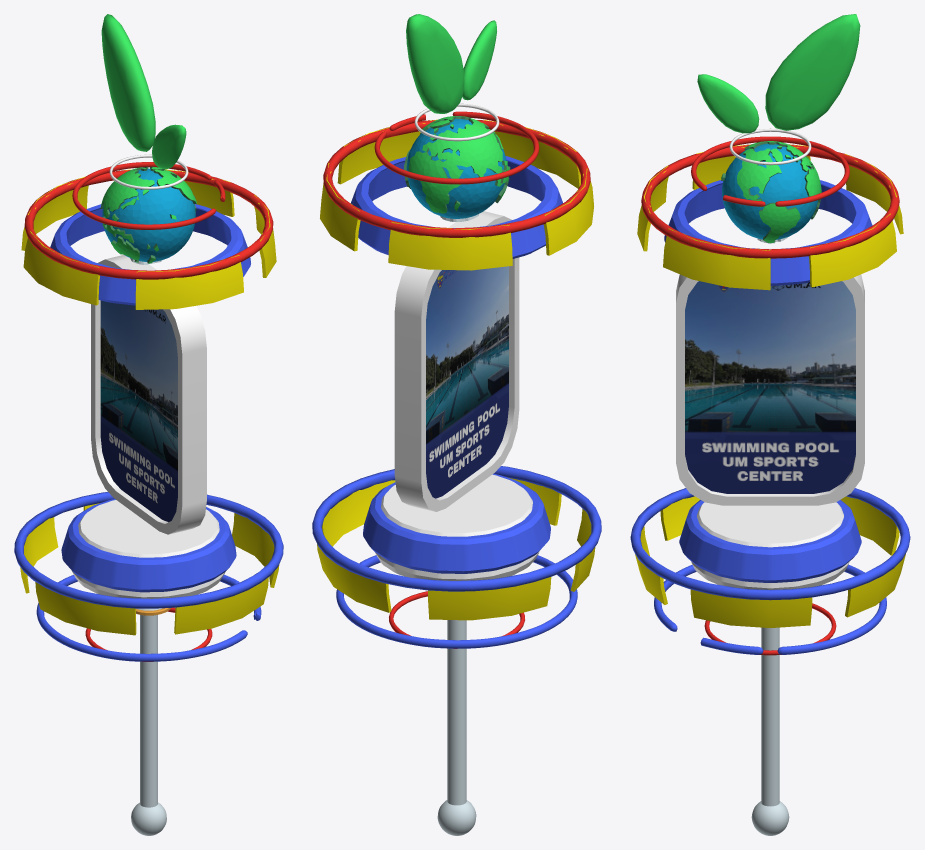
File: pool.glb
3 views of the same model, side by side, from view 1: azimuth 30°, elevation 25°; view 2: azimuth 150°, elevation 25°; view 3: azimuth 270°, elevation 25° (orthographic). The views are drawn at different scales.
Parts seen in each view (by area): view 1: pCube3, polySurface2, pasted__pSphere8, pasted__pSphere6, pasted__pCylinder9, Sphere, pasted__pCylinder10, pCube5, pasted__polySurface27, pasted__polySurface28, pasted__pCone1, pasted__polySurface30 (+3 smaller); view 2: pCube3, polySurface2, pasted__pSphere8, pasted__pSphere6, pasted__pCylinder9, Sphere, pasted__pCylinder10, pasted__polySurface27, pCube5, pasted__polySurface28, pasted__polySurface30, pasted__pCone1 (+4 smaller); view 3: pCube3, pasted__pSphere8, pCube5, pasted__pSphere6, Sphere, pasted__pCylinder9, pasted__pCylinder10, polySurface2, pasted__polySurface27, pasted__polySurface28, pasted__polySurface30, pasted__pCone1 (+4 smaller).
Part boxes in pixels (x1=…): pCube3: x1=100, y1=300, x2=177, y2=522; polySurface2: x1=91, y1=255, x2=206, y2=534; pasted__pSphere8: x1=21, y1=169, x2=276, y2=309; pasted__pSphere6: x1=20, y1=503, x2=279, y2=635; pasted__pCylinder9: x1=61, y1=499, x2=236, y2=592; Sphere: x1=100, y1=166, x2=196, y2=264; pasted__pCylinder10: x1=71, y1=500, x2=225, y2=598; pCube5: x1=101, y1=14, x2=186, y2=169; pasted__polySurface27: x1=14, y1=492, x2=283, y2=608; pasted__polySurface28: x1=24, y1=170, x2=273, y2=279; pasted__pCone1: x1=131, y1=608, x2=166, y2=835; pasted__polySurface30: x1=50, y1=204, x2=250, y2=305; pCube3: x1=426, y1=266, x2=508, y2=498; polySurface2: x1=394, y1=211, x2=519, y2=511; pasted__pSphere8: x1=320, y1=119, x2=593, y2=270; pasted__pSphere6: x1=317, y1=477, x2=595, y2=620; pasted__pCylinder9: x1=363, y1=473, x2=550, y2=573; Sphere: x1=404, y1=116, x2=510, y2=221; pasted__pCylinder10: x1=375, y1=474, x2=539, y2=580; pasted__polySurface27: x1=312, y1=466, x2=601, y2=591; pCube5: x1=406, y1=14, x2=496, y2=113; pasted__polySurface28: x1=323, y1=120, x2=590, y2=237; pasted__polySurface30: x1=350, y1=156, x2=562, y2=258; pasted__pCone1: x1=437, y1=620, x2=476, y2=835; pCube3: x1=685, y1=281, x2=855, y2=493; pasted__pSphere8: x1=637, y1=144, x2=903, y2=290; pCube5: x1=697, y1=14, x2=860, y2=133; pasted__pSphere6: x1=635, y1=496, x2=905, y2=627; Sphere: x1=721, y1=141, x2=821, y2=243; pasted__pCylinder9: x1=679, y1=500, x2=861, y2=582; pasted__pCylinder10: x1=691, y1=502, x2=849, y2=589; polySurface2: x1=676, y1=248, x2=864, y2=505; pasted__polySurface27: x1=630, y1=488, x2=910, y2=600; pasted__polySurface28: x1=641, y1=144, x2=899, y2=258; pasted__polySurface30: x1=664, y1=180, x2=872, y2=285; pasted__pCone1: x1=751, y1=627, x2=789, y2=835.
Bounding box in the file's own units: 0.0149 × 0.0481 × 0.0149.
10 materials, 1 textured.
